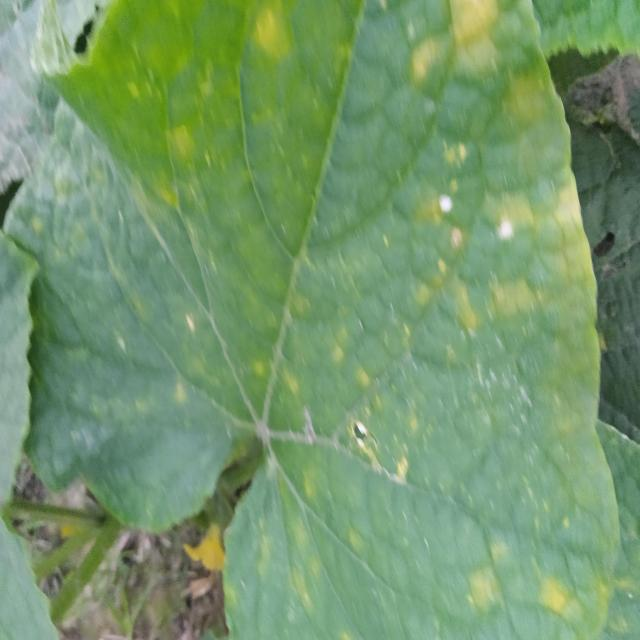cucumber_downy: (36, 0, 597, 629)
